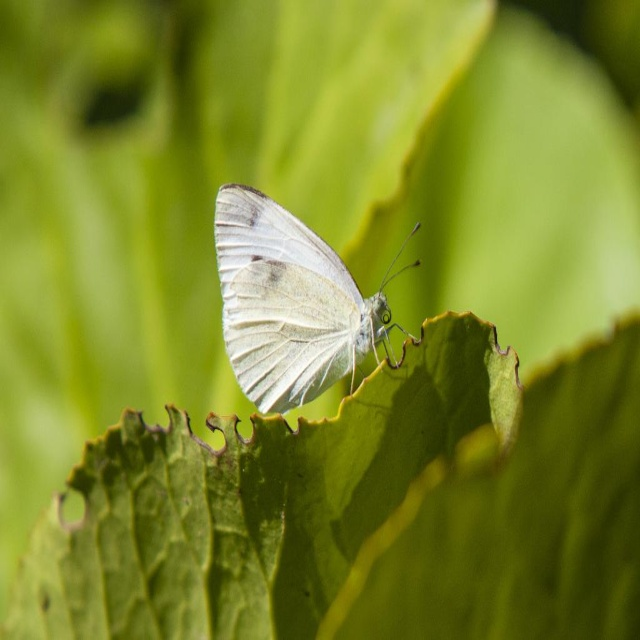Butterfly: (213, 183, 422, 415)
